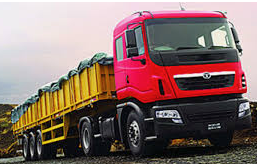truck: (9, 7, 255, 160)
